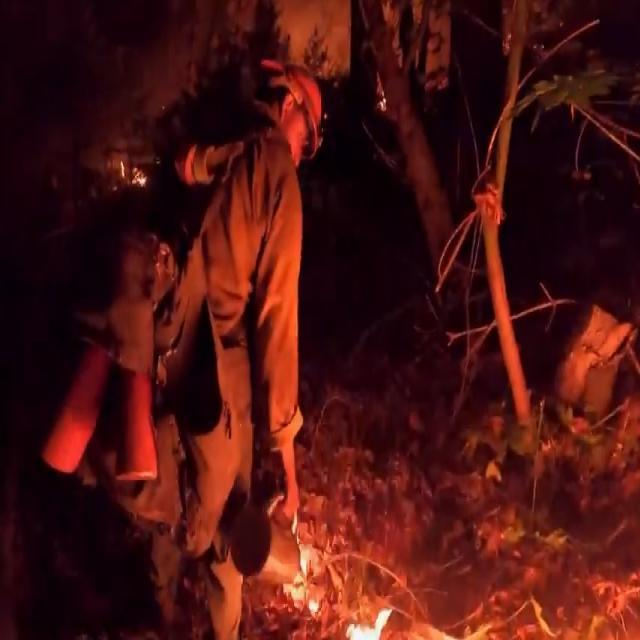Fire: (269, 494, 392, 640)
